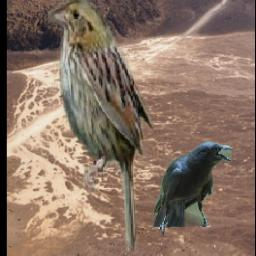Crow: (150, 142, 232, 237)
Sparrow: (48, 0, 154, 253)
